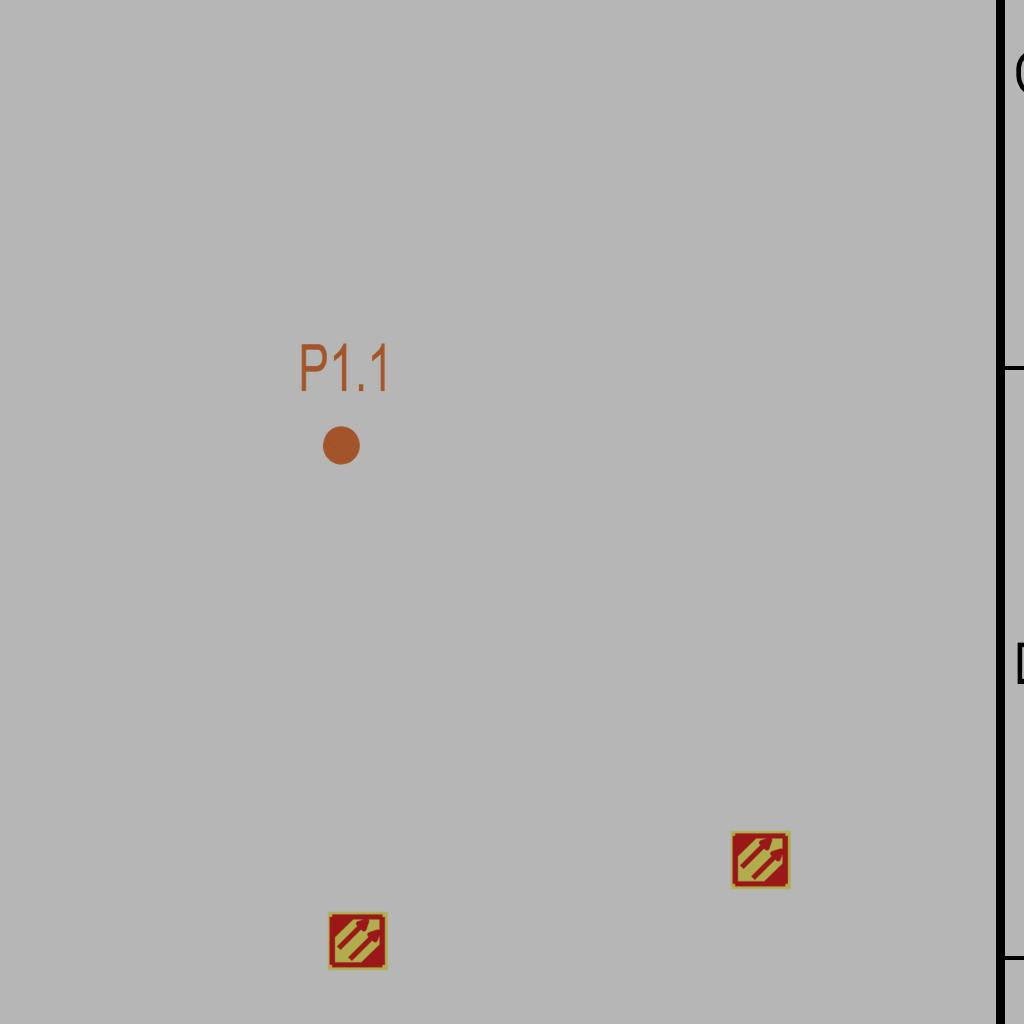ASR_Ansaugrauchmelder: (730, 829, 792, 891), (327, 910, 389, 972)
Downlight_LED_Einbauleuchten_Flur: (298, 340, 391, 468)
